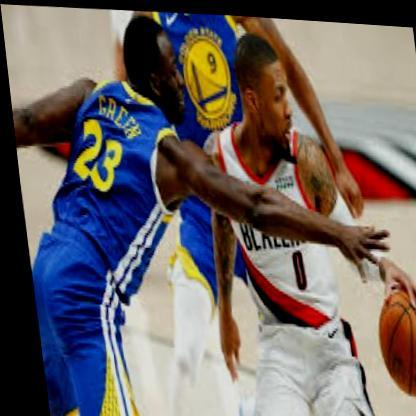basketball: (365, 279, 416, 393)
